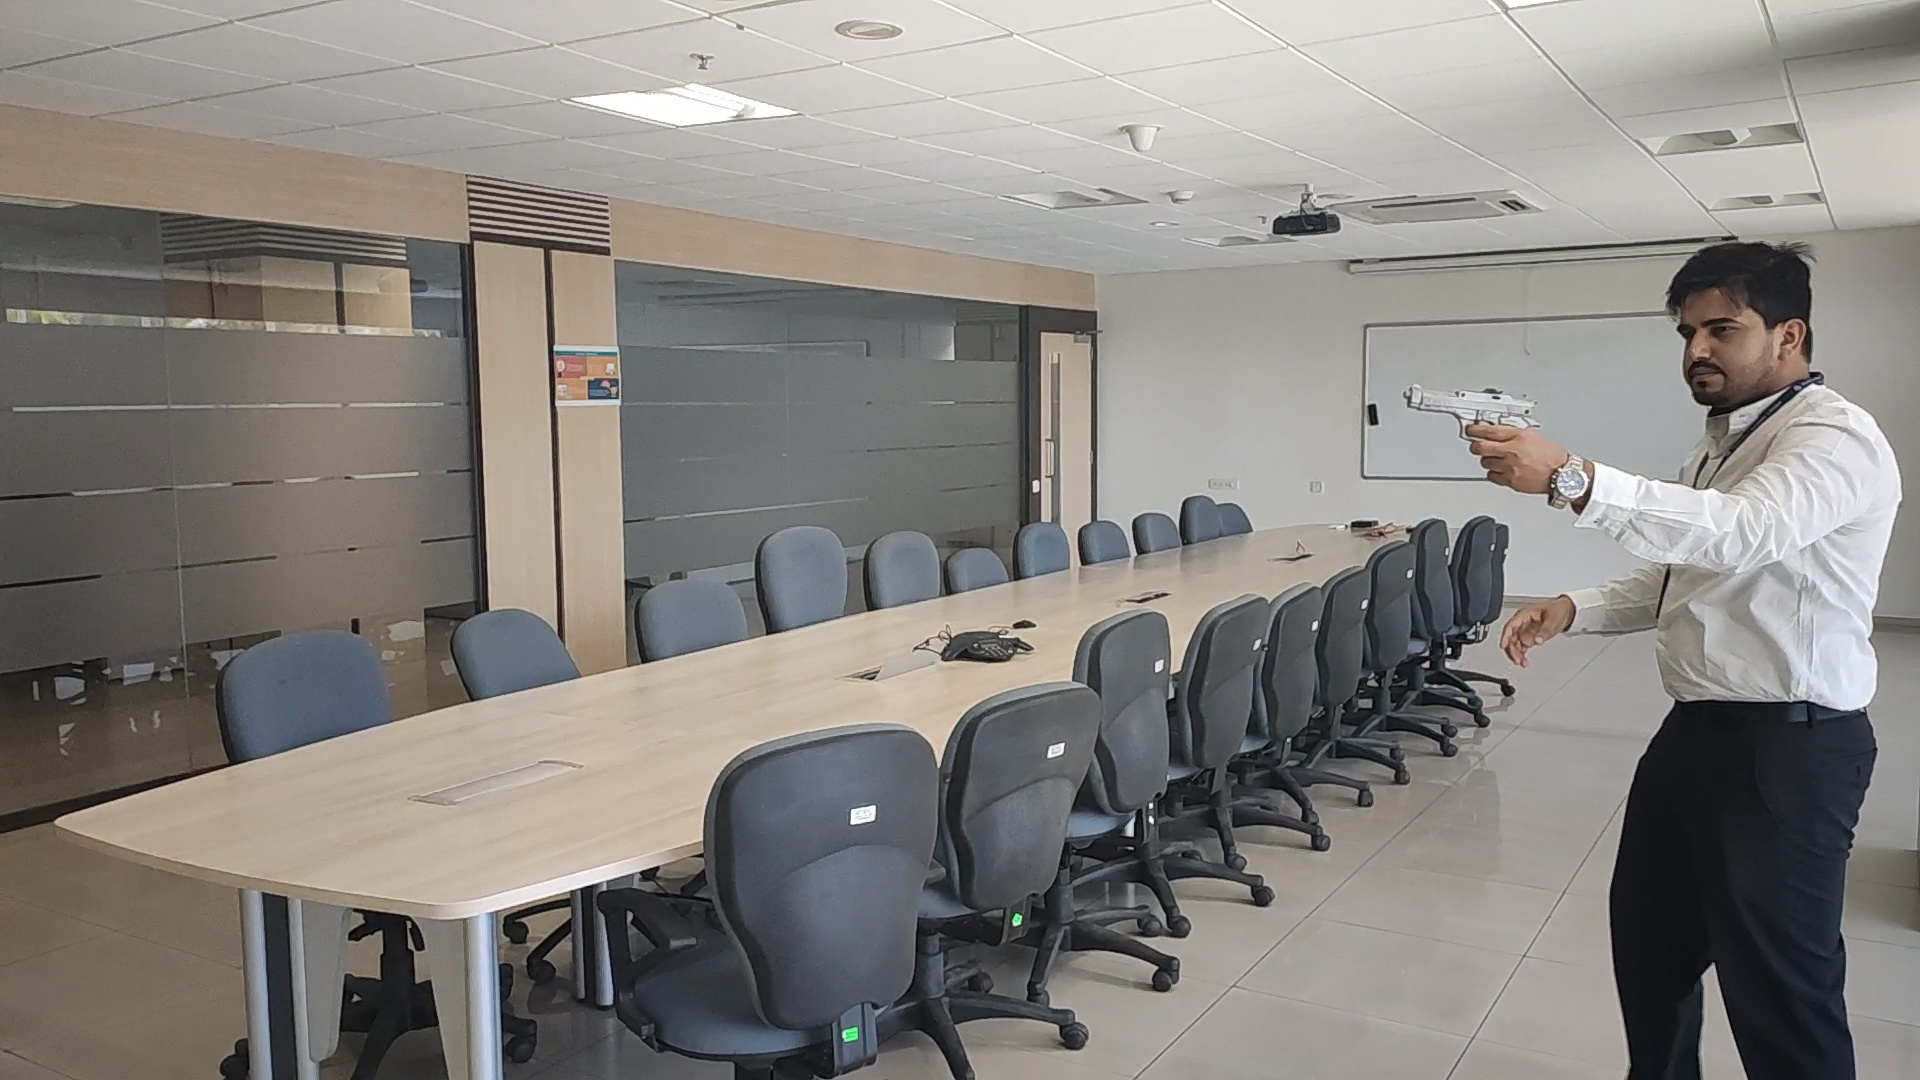knife: (1400, 381, 1540, 427)
